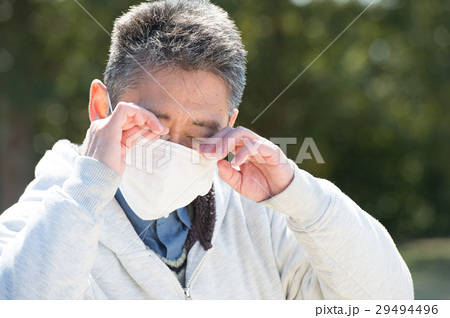mask: (104, 126, 216, 223)
